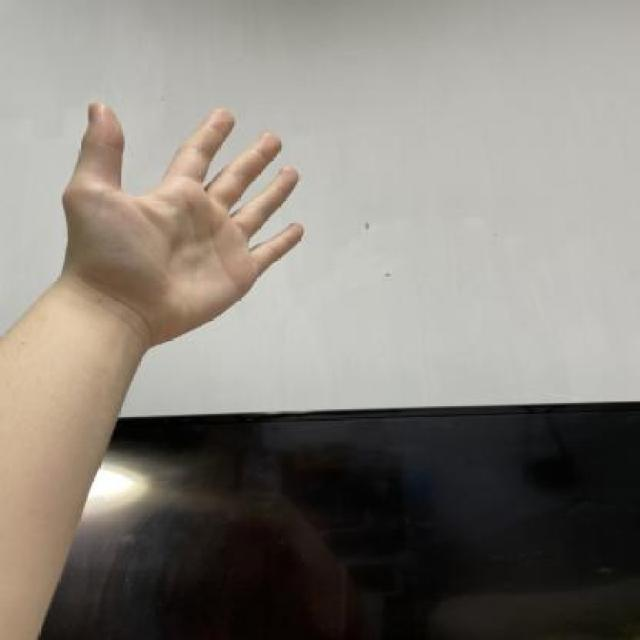hand: (44, 92, 312, 384)
